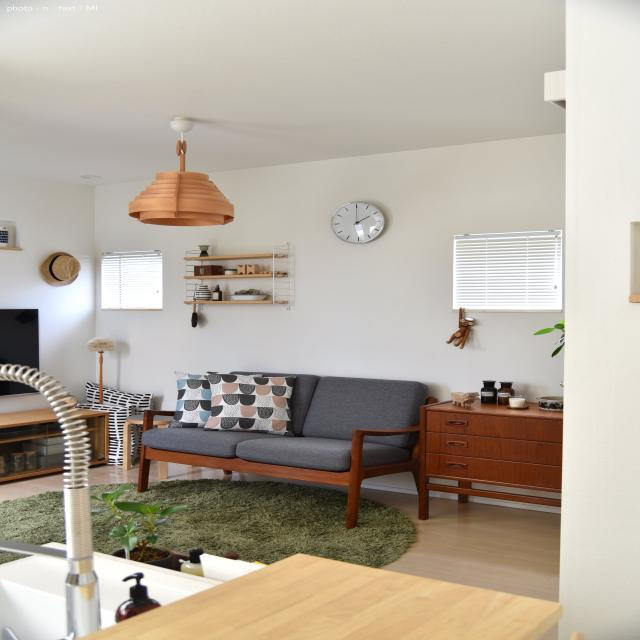vintage shelf: (420, 394, 568, 532)
vintage sofa: (138, 362, 433, 528)
